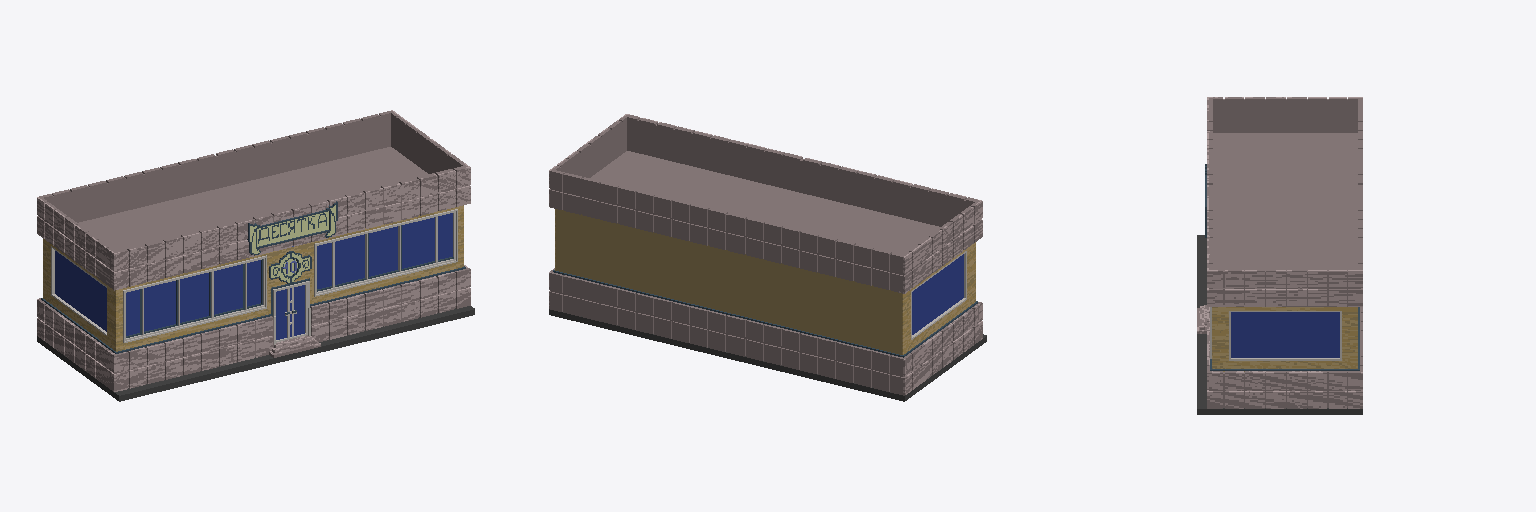
3 views of the same model, side by side, from view 1: azimuth 30°, elevation 25°; view 2: azimuth 150°, elevation 25°; view 3: azimuth 270°, elevation 25° (orthographic).
Parts seen in each view (by area): view 1: object 1; view 2: object 1; view 3: object 1.
Part boxes in pixels (x1,y1,x2,y2): object 1: (37, 110, 474, 401); object 1: (549, 114, 986, 401); object 1: (1197, 97, 1362, 414).
Bounding box in the file's own units: 25.6 × 9.9 × 10.3.
Materials: 1 (1 with a texture image).